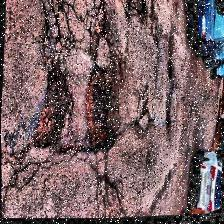pothole: (31, 62, 125, 160)
